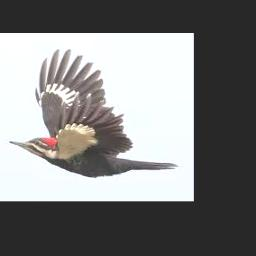Woodpecker: (8, 49, 178, 176)
